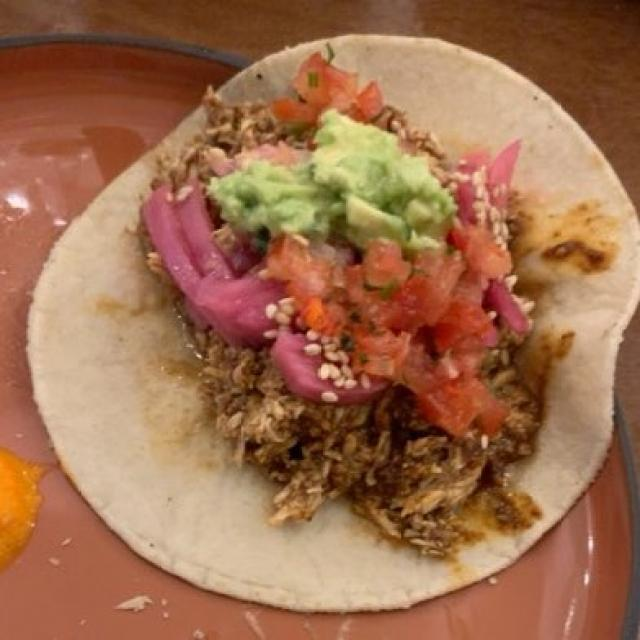bread: (14, 38, 638, 615)
guacamole: (232, 115, 446, 246)
tomato: (264, 56, 531, 428)
